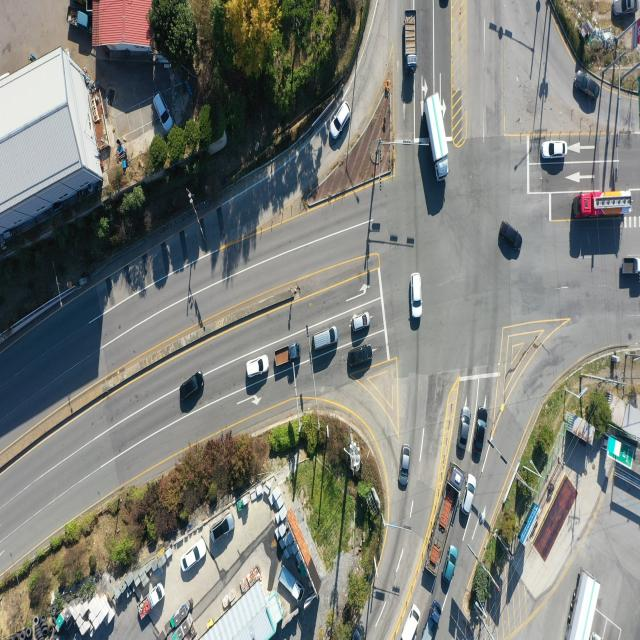car: (181, 541, 206, 573), (153, 92, 172, 133), (399, 603, 420, 640), (332, 102, 351, 142), (474, 407, 488, 461), (573, 72, 599, 101), (179, 373, 203, 403), (500, 220, 522, 252), (312, 325, 338, 352), (213, 517, 235, 546), (347, 345, 372, 370), (458, 407, 471, 453), (462, 475, 476, 517), (247, 354, 270, 378), (411, 274, 423, 320), (401, 443, 412, 488), (445, 545, 458, 582), (542, 140, 567, 159), (613, 0, 638, 17), (350, 312, 370, 333)
medium_truck: (424, 461, 466, 573), (565, 568, 600, 638), (423, 91, 450, 181), (578, 194, 635, 218), (406, 7, 421, 68)
small_truck: (276, 564, 304, 601), (138, 582, 166, 617), (422, 600, 441, 640), (273, 341, 301, 368), (65, 6, 88, 27), (621, 257, 640, 276)
